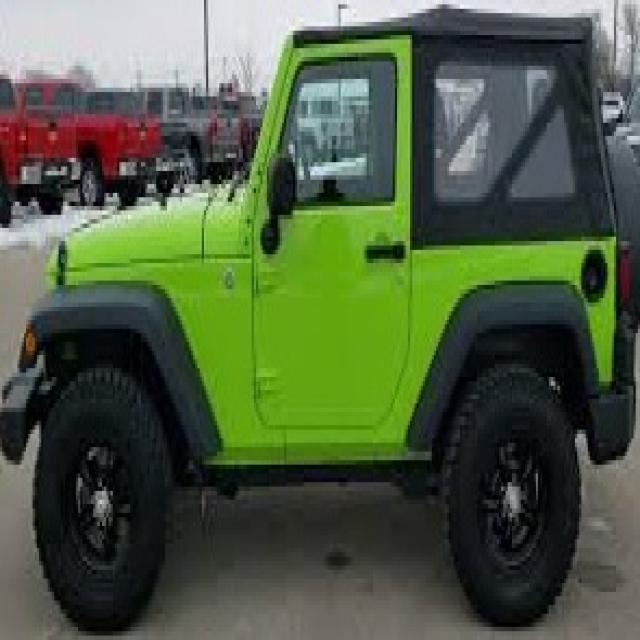green: (4, 13, 635, 624)
